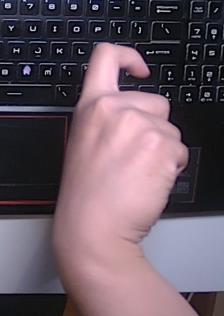anticlockwise: (52, 36, 192, 236)
